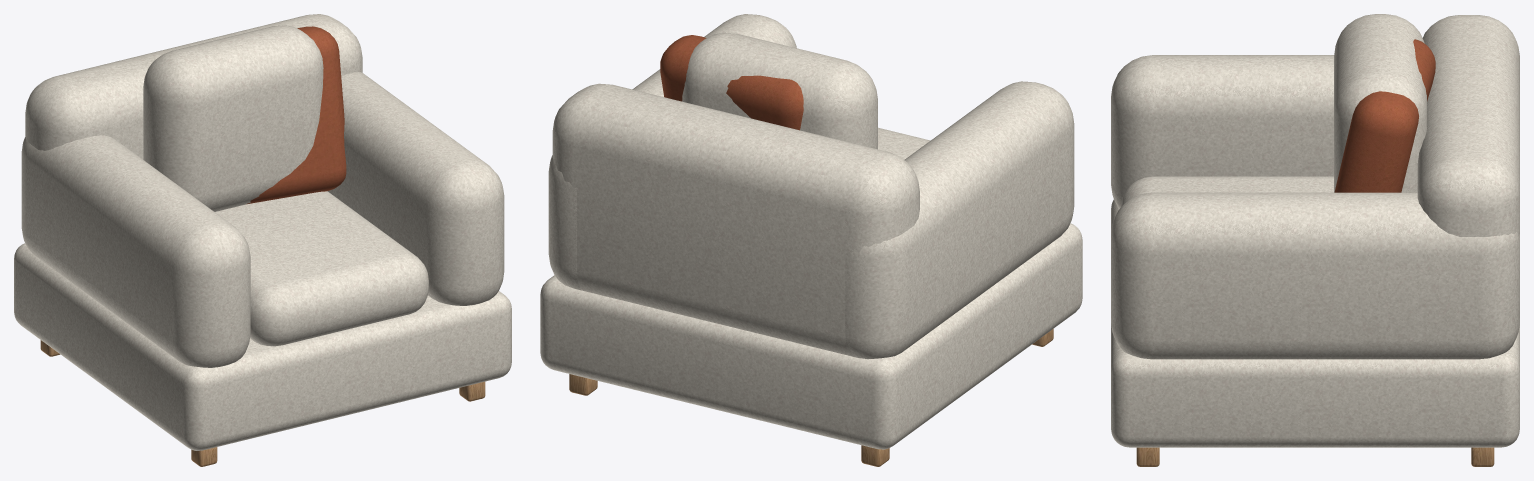
File: armchair-boucle.glb
3 views of the same model, side by side, from view 1: azimuth 30°, elevation 25°; view 2: azimuth 150°, elevation 25°; view 3: azimuth 270°, elevation 25° (orthographic). The views are drawn at different scales.
Parts seen in each view (by area): view 1: base, arm, cushion, arm.001, seat, back, pillow; view 2: back, base, arm, cushion, arm.001, pillow, seat; view 3: arm.001, base, arm, back, cushion, pillow, seat, leg.002, leg.003.
Boxes of the visible parts, box(x1,y1,x2,y2) form: base: box(14, 243, 511, 450); arm: box(21, 135, 250, 367); cushion: box(143, 25, 323, 211); arm.001: box(327, 72, 504, 305); seat: box(215, 191, 428, 346); back: box(25, 14, 362, 159); pillow: box(246, 26, 346, 204); back: box(552, 83, 919, 356); base: box(540, 223, 1082, 449); arm: box(845, 81, 1074, 359); cushion: box(682, 32, 877, 149); arm.001: box(548, 14, 796, 290); pillow: box(660, 35, 803, 130); seat: box(878, 127, 930, 159); arm.001: box(1111, 192, 1519, 359); base: box(1111, 199, 1519, 447); arm: box(1111, 55, 1333, 209); back: box(1417, 15, 1519, 236); cushion: box(1334, 14, 1426, 192); pillow: box(1334, 39, 1435, 192); seat: box(1120, 176, 1333, 207); leg.002: box(1136, 447, 1159, 466); leg.003: box(1471, 447, 1494, 466).
Bounding box in the file's own units: 0.9 × 0.82 × 0.88.
Materials: 3 (3 with a texture image).
